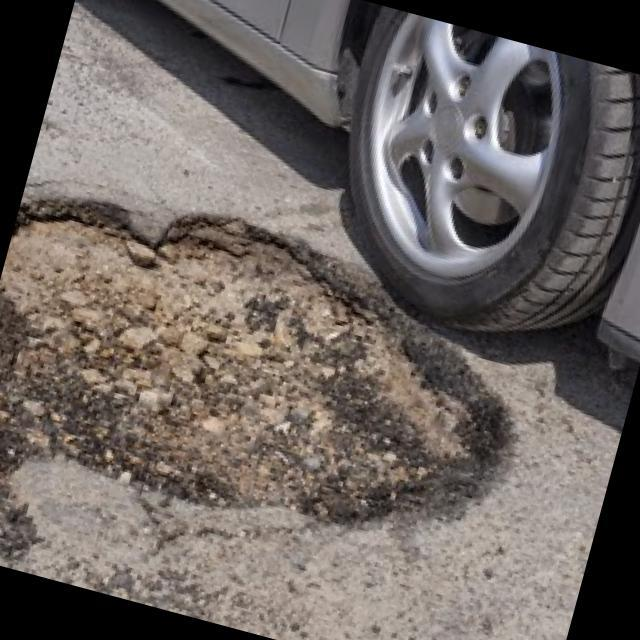Pothole: (0, 160, 567, 620)
